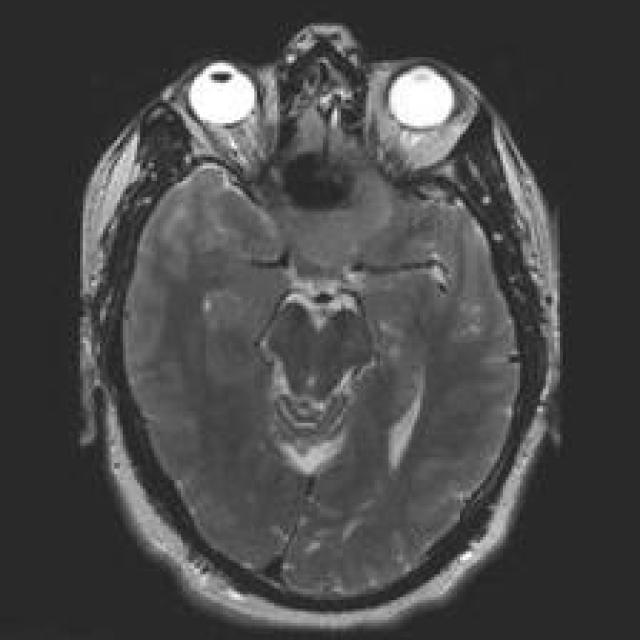no_tumor: (60, 18, 579, 640)
